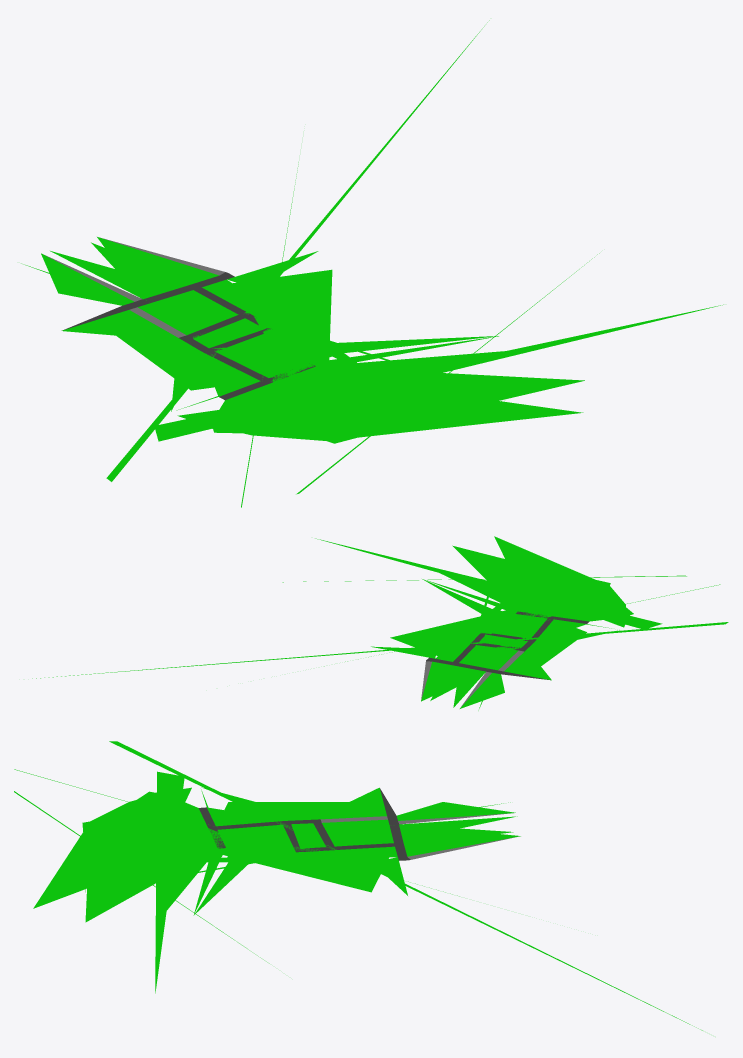
3 views of the same model, one above another, from view 1: azimuth 30°, elevation 25°; view 2: azimuth 150°, elevation 25°; view 3: azimuth 270°, elevation 25° (orthographic). The views are drawn at different scales.
Bounding box in the file's own units: 300 × 0 × 300.
